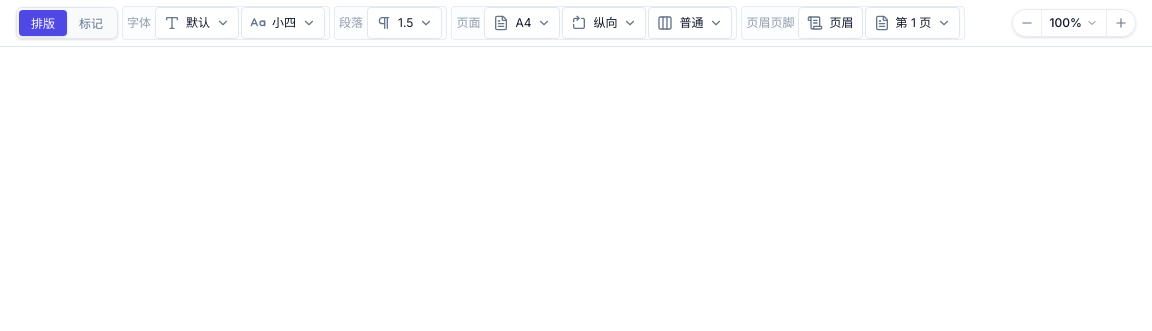
Test case: PaperToolbar Markdown tab › uses Word-like paper layout controls without text alignment
The width and height of the screenshot is (1152, 331).
Expected: the button with aria-label "字号" reads "小四", [241,7,325,39]
Click the button with aria-label "字体" at x=197, y=23, box [155,7,239,39]
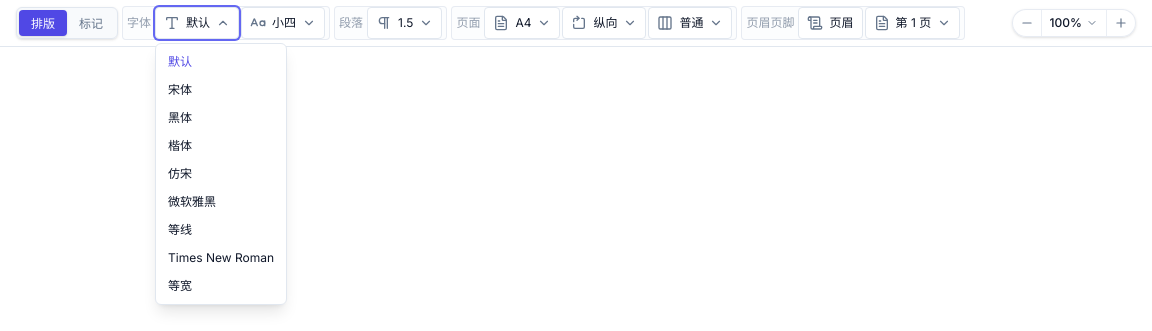
Expected: the button named "纸张大小" reads "A4", [484,7,560,39]
Now the option "宋体" is shown, box [160,76,282,104]
Now the option "微软雅黑" is shown, box [160,188,282,216]
